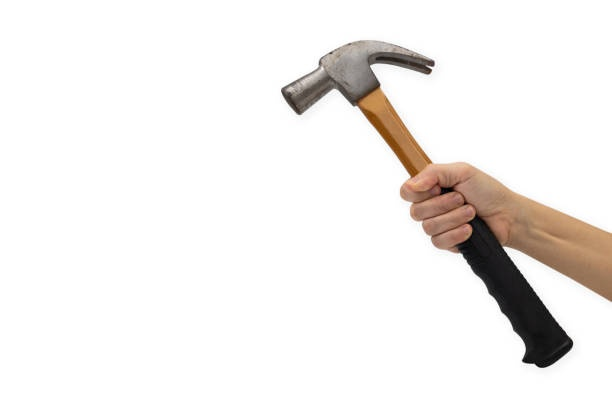hammer: (279, 39, 576, 368)
